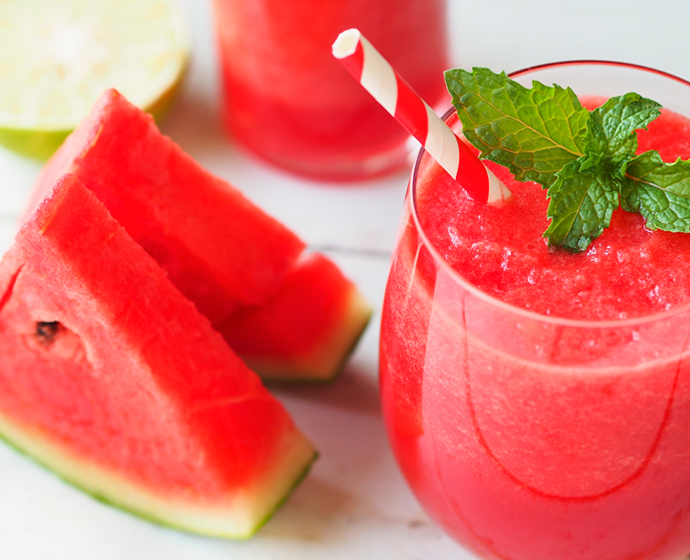Semangka: (1, 229, 248, 500), (126, 180, 357, 396)
